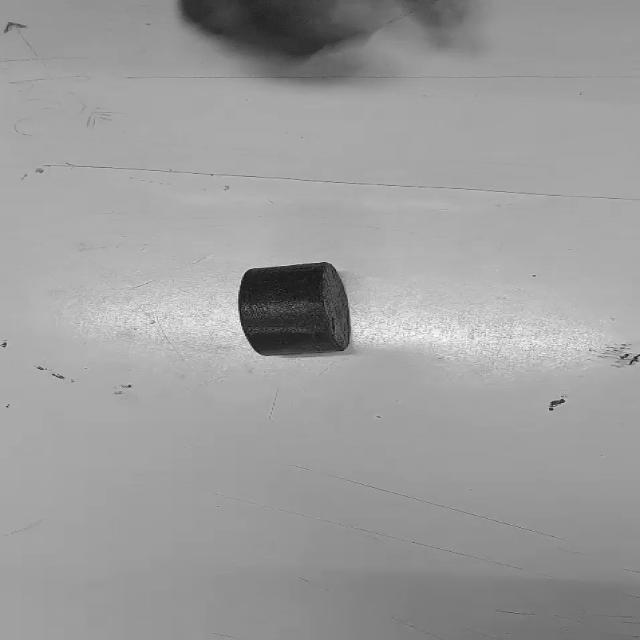bcircle: (234, 261, 354, 357)
